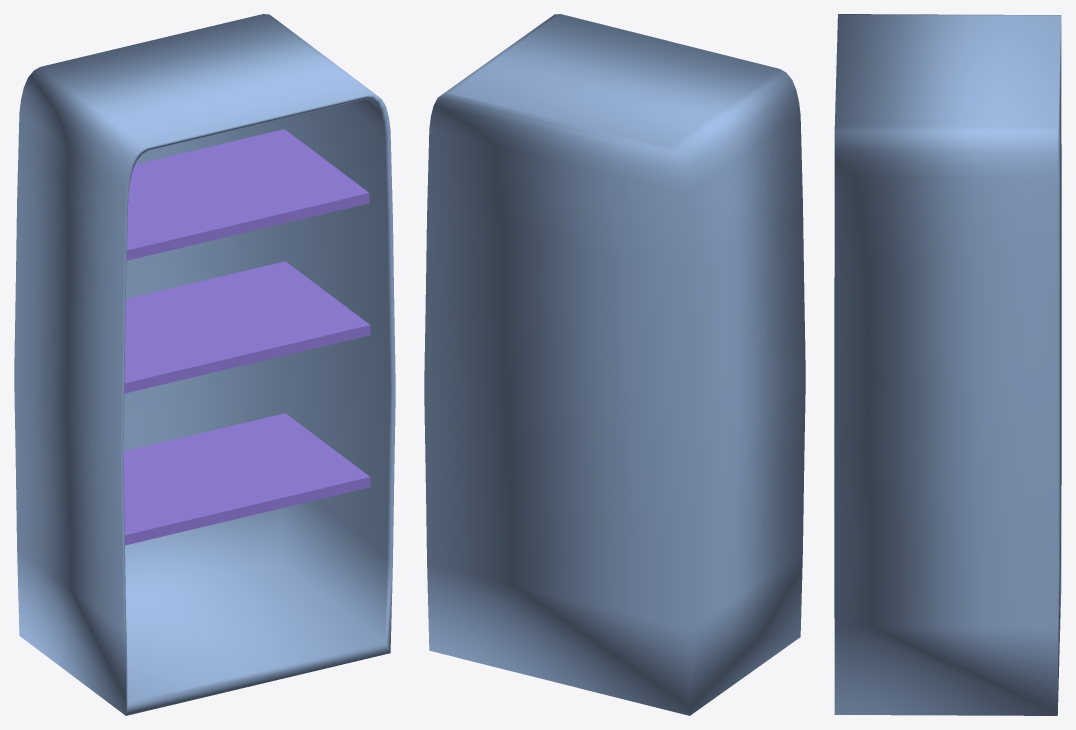
The model's file is fridge.fbx.
3 views of the same model, side by side, from view 1: azimuth 30°, elevation 25°; view 2: azimuth 150°, elevation 25°; view 3: azimuth 270°, elevation 25° (orthographic). The views are drawn at different scales.
Visible parts, largest first — view 1: холодильник; view 2: холодильник; view 3: холодильник.
Part boxes in pixels (<box>): холодильник: <box>14,14,395,715</box>; холодильник: <box>424,14,805,715</box>; холодильник: <box>834,14,1061,715</box>.
Size of the model in its own units: 117 by 229 by 81.56.
